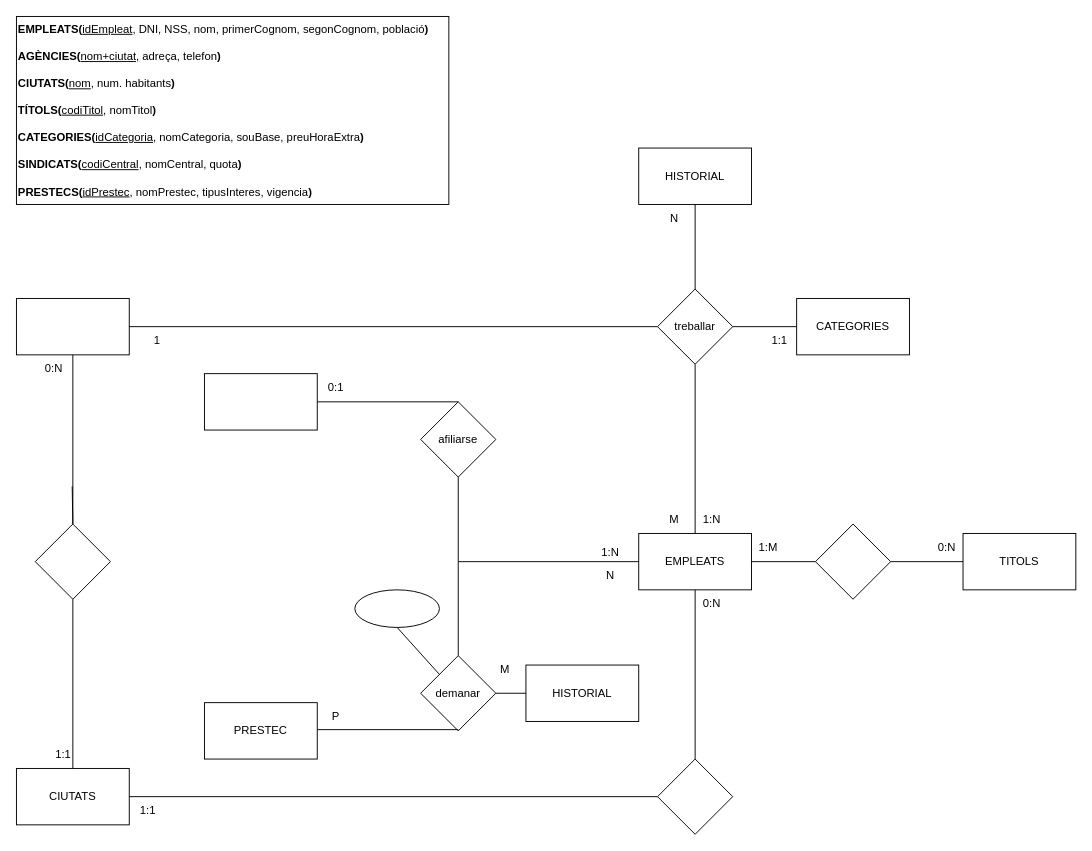
Image size: 1092x851. Some labels were removed from this diagram. Each missing label, with the box of its shape:
AGENCIES: (16, 298, 129, 355)
concedits: (354, 589, 439, 627)
SINDICAT: (204, 373, 317, 430)
tenir: (815, 523, 891, 599)
ubicar: (34, 523, 110, 599)
viure: (657, 758, 733, 834)
